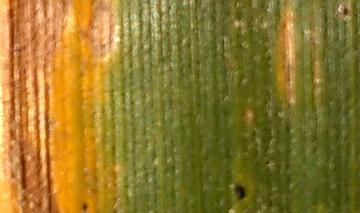tarspot: (233, 184, 247, 200), (342, 6, 350, 16), (82, 203, 89, 211)
